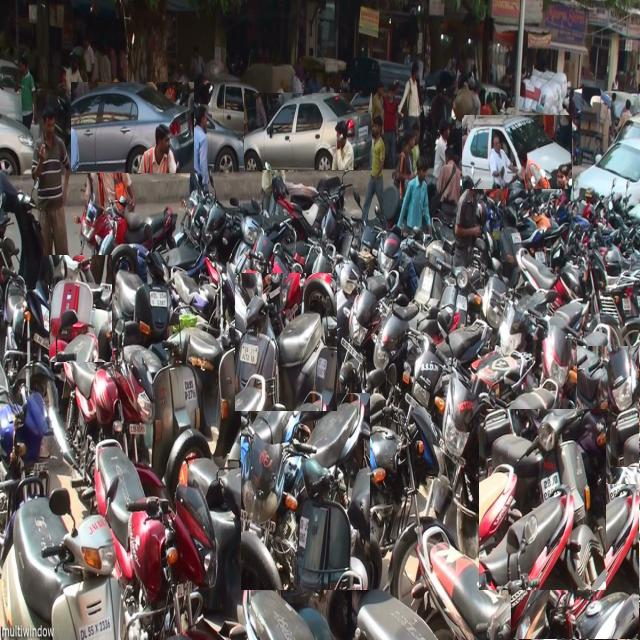car: (72, 82, 194, 173), (244, 93, 372, 170), (462, 115, 572, 189), (194, 76, 265, 137)
motorcycle: (309, 376, 449, 608), (165, 429, 315, 620), (241, 394, 370, 590), (95, 440, 219, 640), (432, 371, 560, 558), (479, 410, 606, 590), (411, 527, 604, 639), (0, 473, 122, 639), (511, 485, 640, 640), (54, 333, 155, 482), (79, 124, 178, 267), (236, 274, 337, 411), (2, 269, 72, 463), (116, 320, 200, 478), (187, 318, 259, 457), (578, 346, 639, 467), (108, 244, 171, 350), (49, 256, 112, 362)
